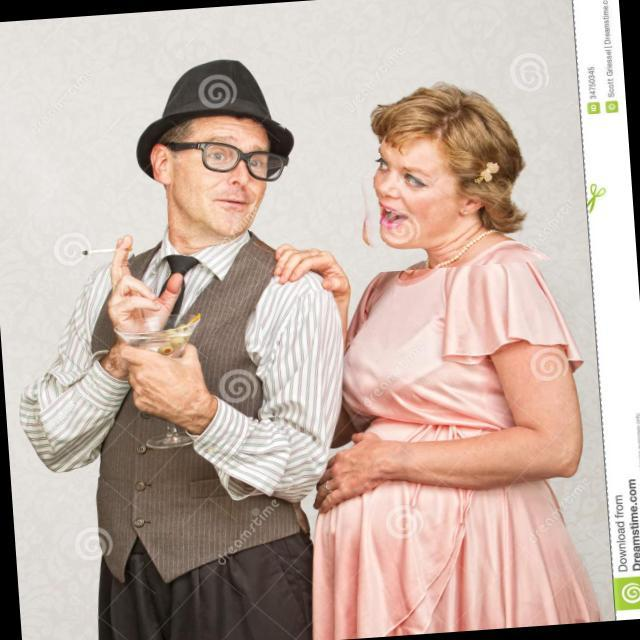cigarette: (62, 247, 134, 272)
